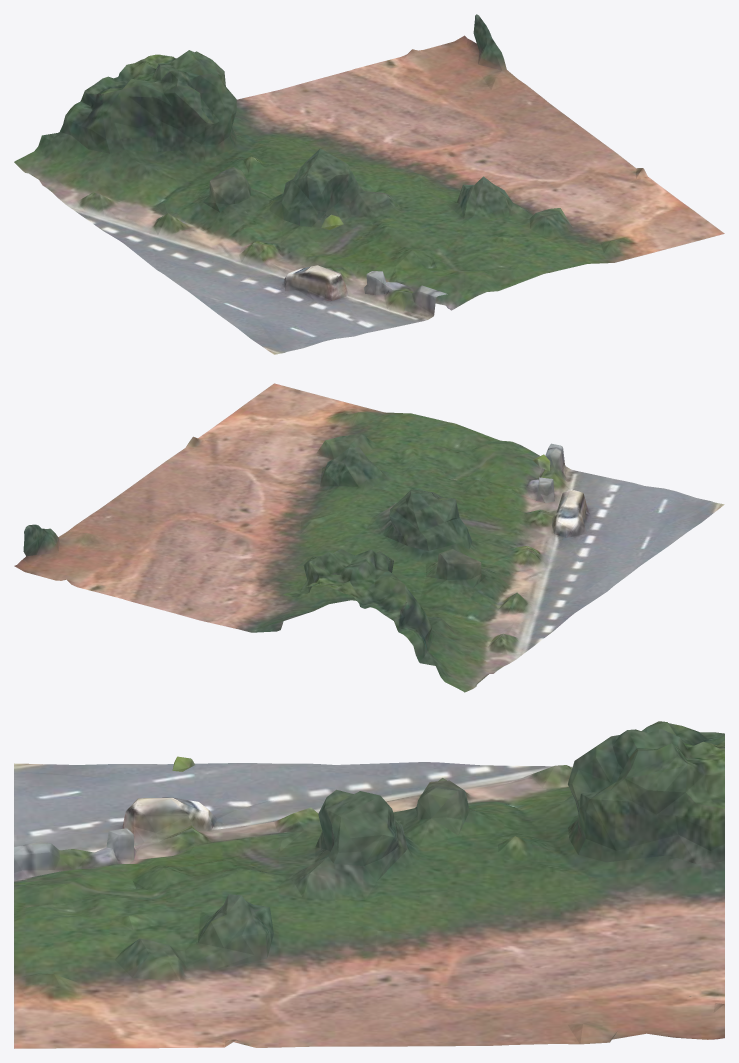
Rendered from Tile__005__001_L20_000210.glb.
3 renders of one model, top to bottom at view 1: azimuth 30°, elevation 25°; view 2: azimuth 150°, elevation 25°; view 3: azimuth 270°, elevation 25°, orthographic. The views are drawn at different scales.
Parts seen in each view (by area): view 1: root; view 2: root; view 3: root.
Boxes of the visible parts, x1=… form: root: x1=14, y1=14, x2=724, y2=354; root: x1=14, y1=383, x2=724, y2=692; root: x1=14, y1=721, x2=724, y2=1048.
Size of the model in its own units: 25.25 by 5.01 by 25.25.
Materials: 1 (1 with a texture image).
